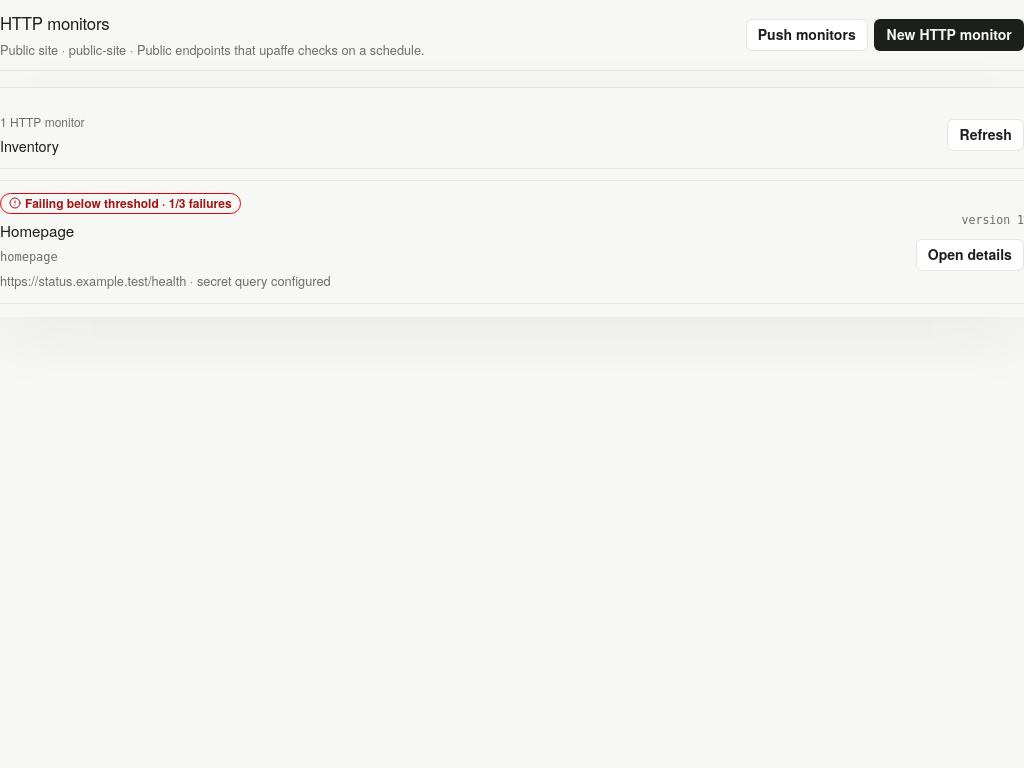
HTTP monitor administration › keeps a conflict visible while refreshing the concurrent monitor version
What coordinates should you click on to do the following:
click the button "Open details"
I would click on:
 (970, 255)
Its box is [916, 239, 1023, 271].
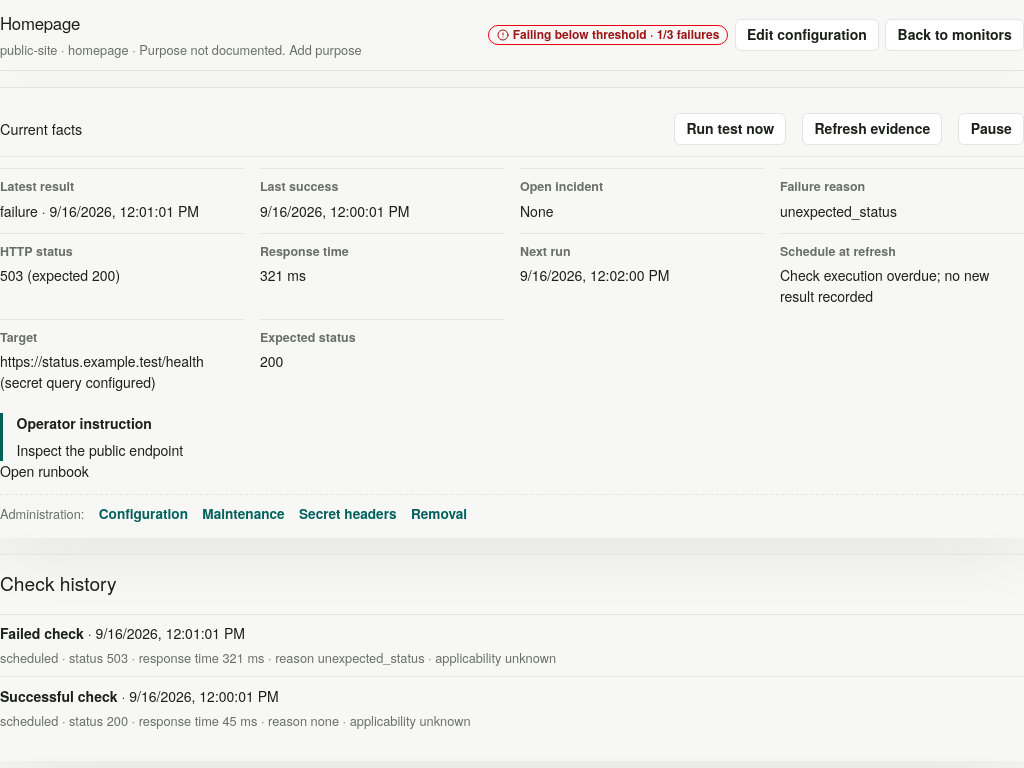
Expected: the heading "Homepage" is shown, [0, 11, 80, 35]
What coordinates should you click on to do the following:
click the button "Pause"
I would click on:
 (991, 129)
Its box is [958, 113, 1023, 145].
(page scrolled)
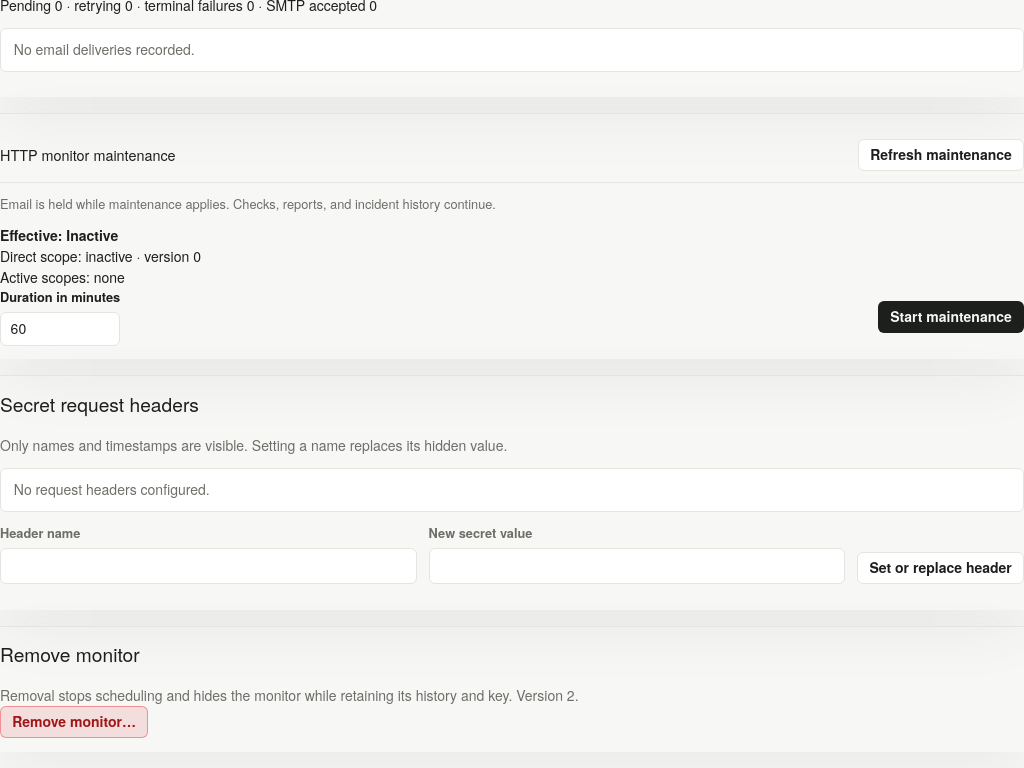
Expected: the text "Version 2." is shown, [0, 685, 578, 705]
